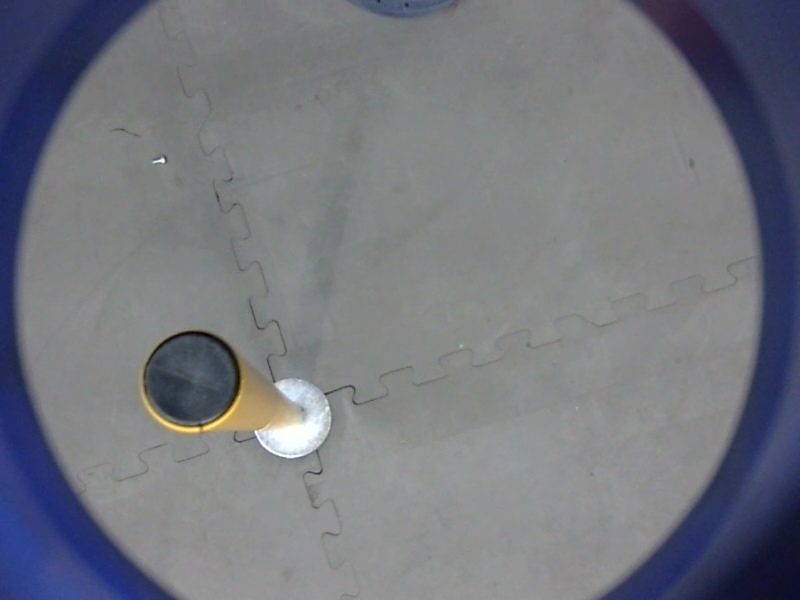tip: (134, 325, 246, 439)
